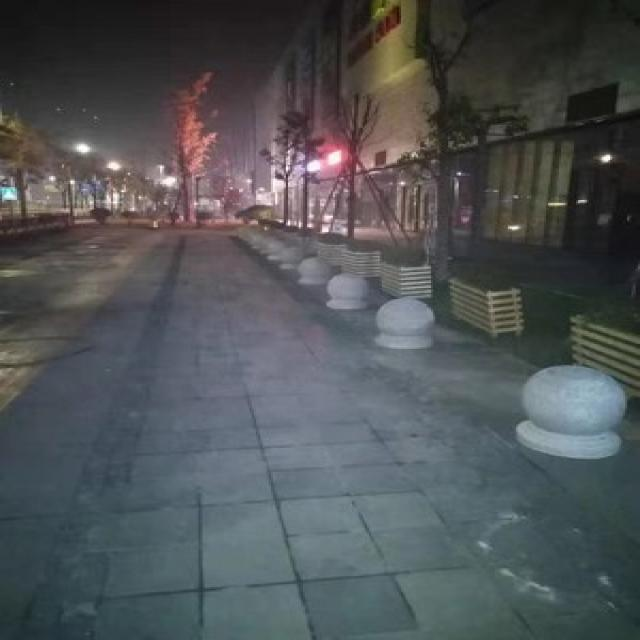spherical_roadblock: (506, 363, 627, 456), (374, 296, 436, 347), (320, 270, 367, 310), (296, 254, 328, 285)
